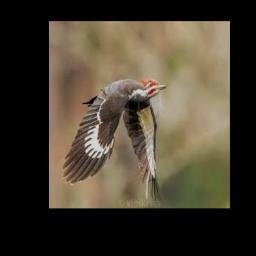Woodpecker: (62, 78, 166, 200)
